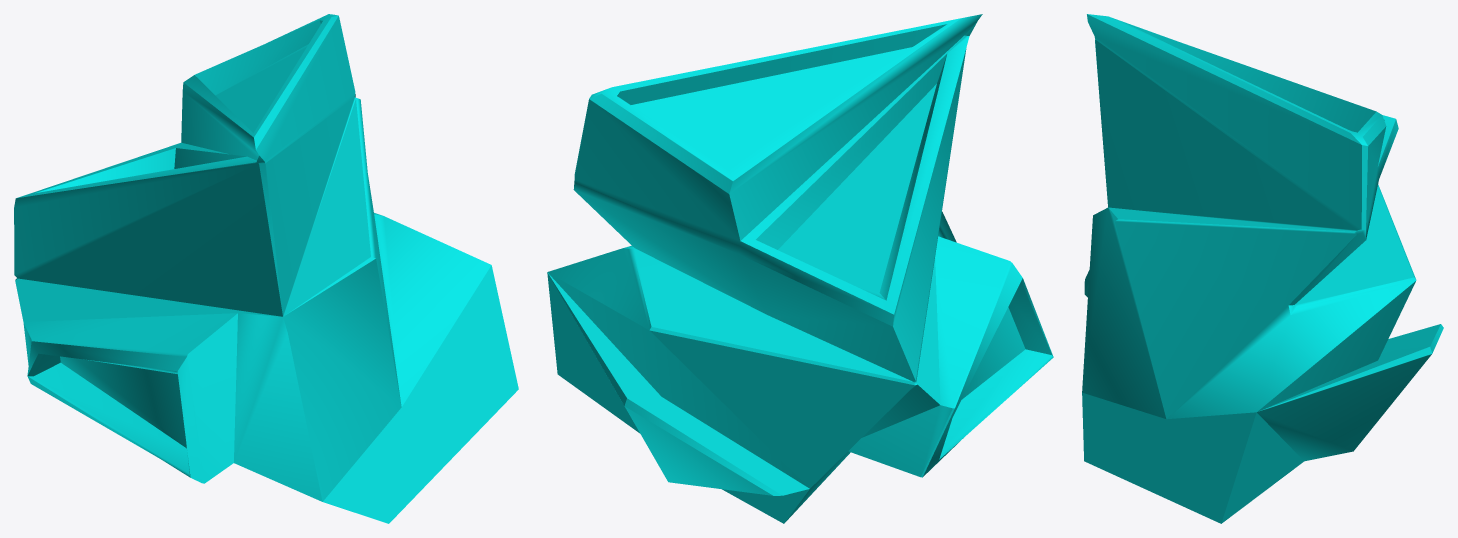
The model's file is tricystal7_small_alpha.fbx.
3 views of the same model, side by side, from view 1: azimuth 30°, elevation 25°; view 2: azimuth 150°, elevation 25°; view 3: azimuth 270°, elevation 25° (orthographic). The views are drawn at different scales.
Parts seen in each view (by area): view 1: pCube1; view 2: pCube1; view 3: pCube1.
Part boxes in pixels (bbox=[...]): pCube1: bbox=[14, 14, 518, 523]; pCube1: bbox=[547, 14, 1053, 523]; pCube1: bbox=[1082, 14, 1443, 523].
Bounding box in the file's own units: 10.1 × 9.08 × 7.67.
